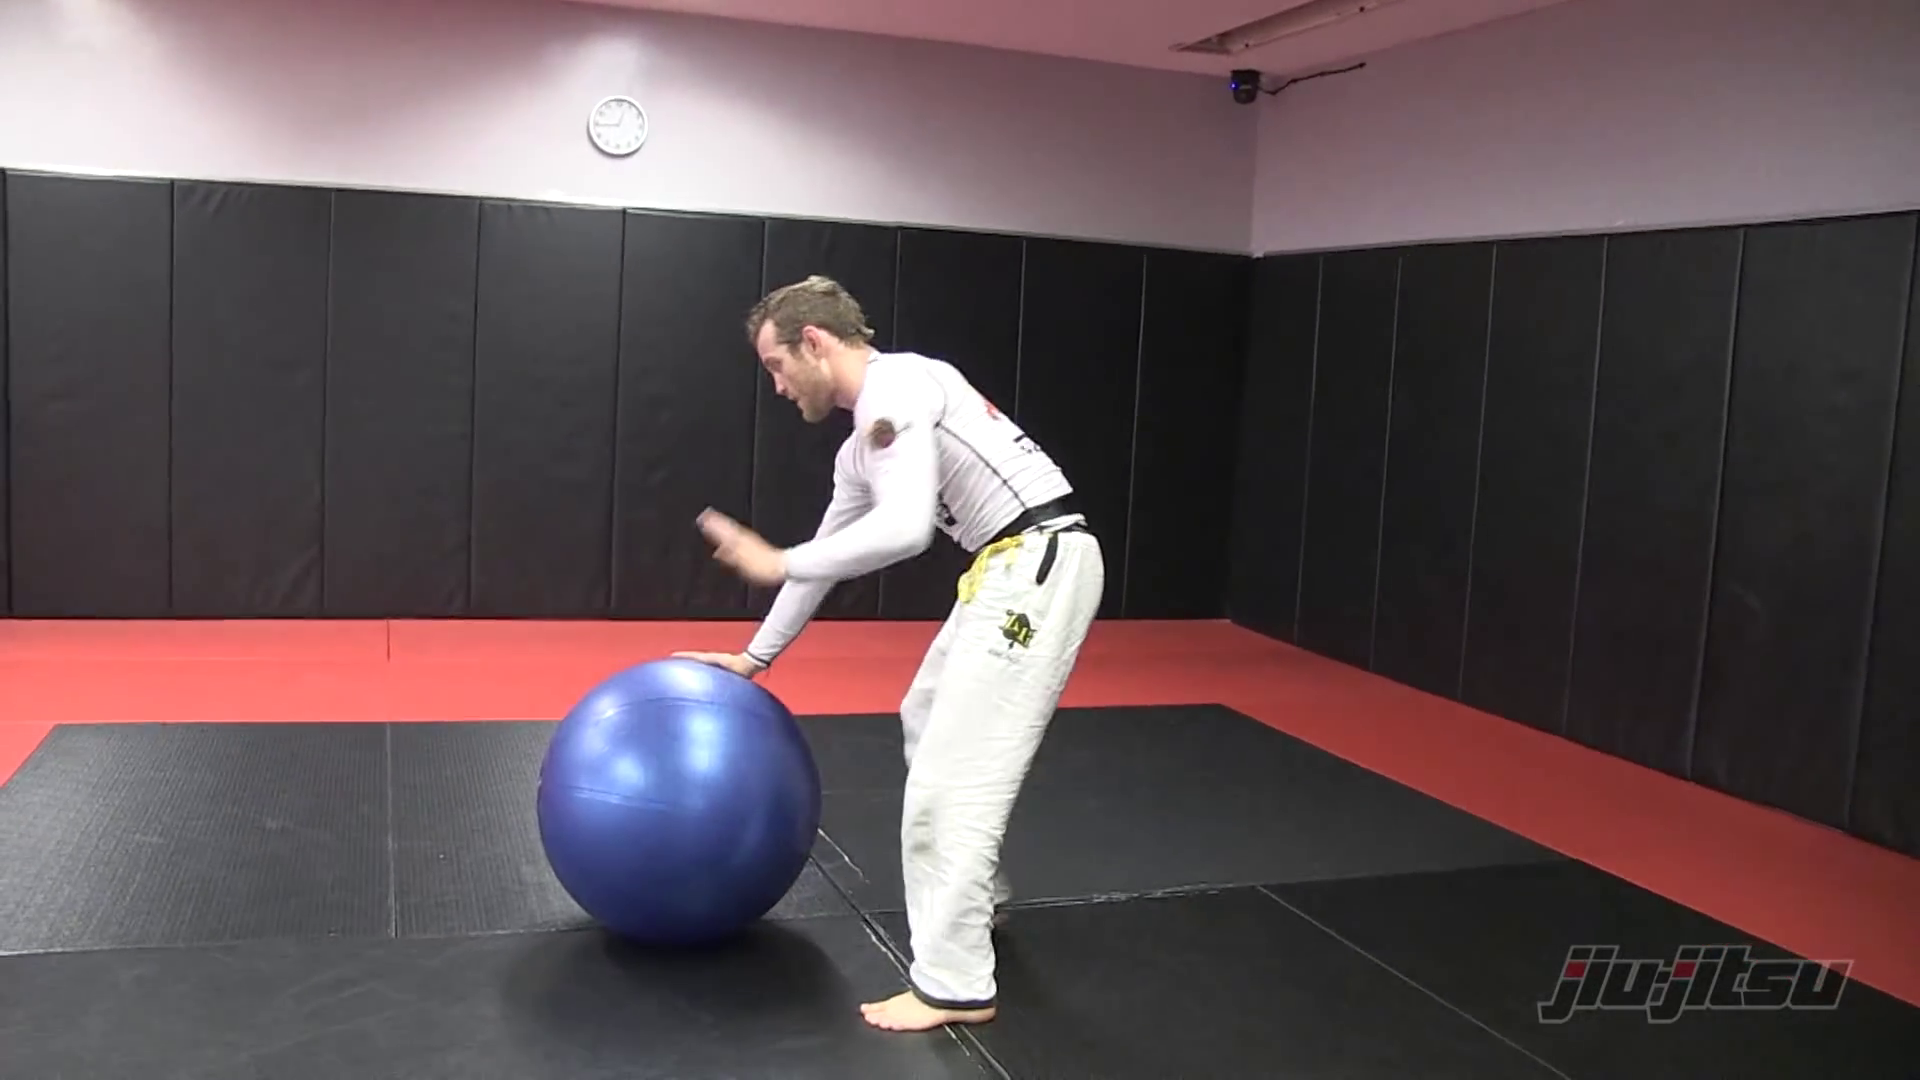yogaball: (524, 646, 837, 973)
